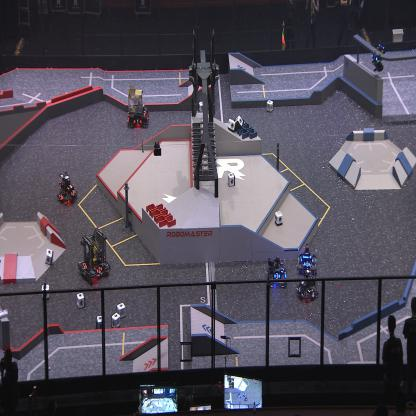car: (76, 226, 112, 282), (126, 84, 149, 128), (296, 268, 320, 304), (56, 169, 78, 207), (295, 242, 317, 272), (268, 256, 288, 289)
